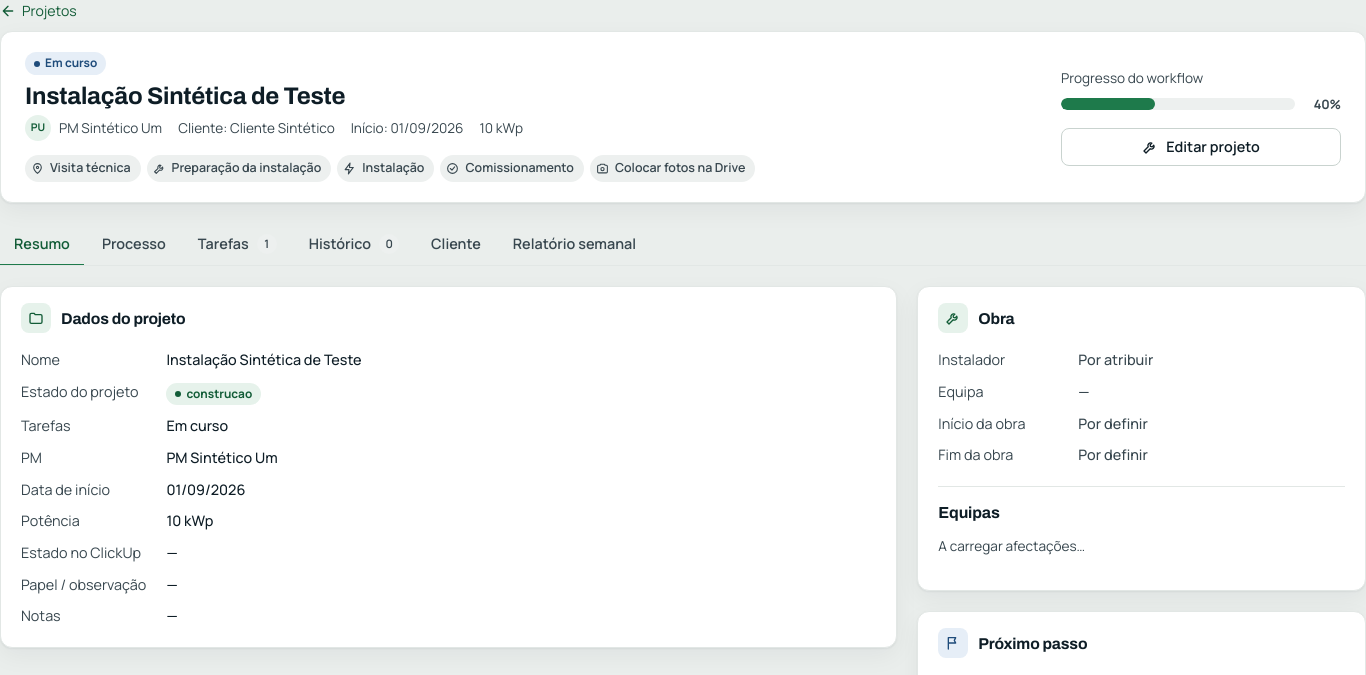
Test: Detalhe do projeto — permissões › PM só pode editar os campos de acompanhamento indicados pelo servidor
Click the button "Editar projeto".
click(1201, 147)  # box [1061,128,1341,166]
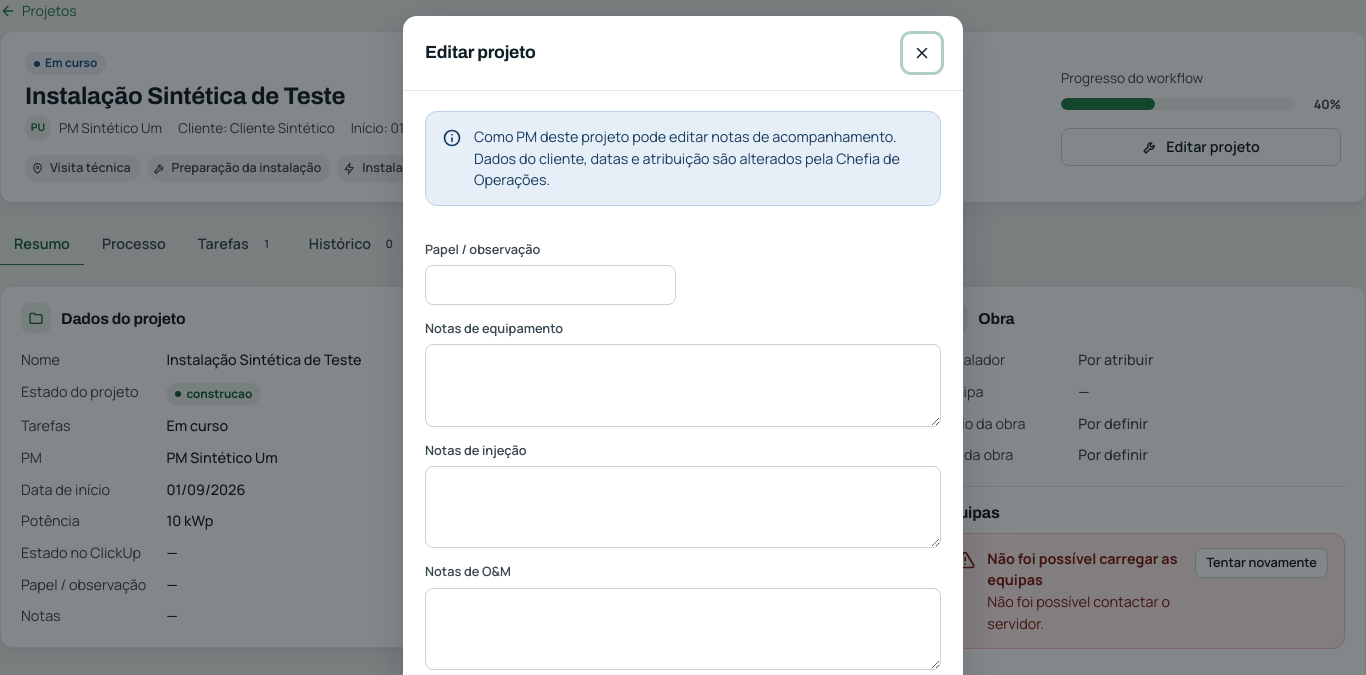
Result: the text "Como PM deste projeto" is shown at [474,127,900,189]
